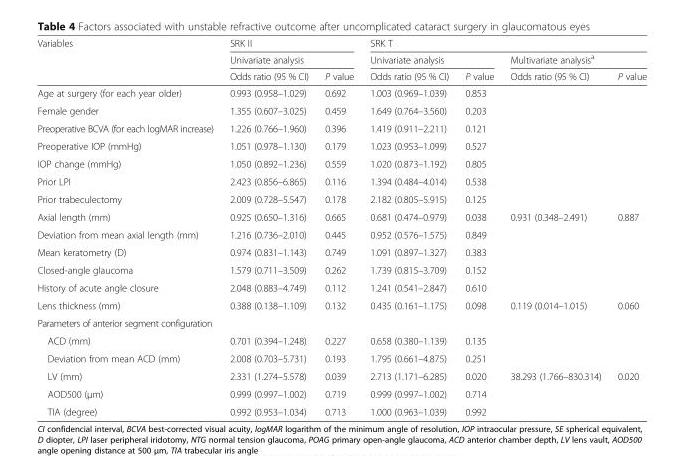table: (36, 37, 646, 416)
table column: (36, 37, 221, 416), (501, 37, 608, 416), (221, 37, 316, 416), (361, 37, 456, 416), (316, 37, 361, 416), (456, 37, 501, 416), (608, 37, 646, 416)
table column header: (36, 37, 646, 84)
table projected row header: (36, 313, 646, 331)
table row: (36, 101, 646, 119), (36, 136, 646, 154), (36, 154, 646, 172), (36, 172, 646, 190), (36, 207, 646, 225), (36, 225, 646, 243), (36, 260, 646, 278), (36, 278, 646, 296), (36, 313, 646, 331), (36, 331, 646, 349), (36, 349, 646, 367), (36, 384, 646, 402), (36, 50, 646, 67), (36, 67, 646, 84), (36, 84, 646, 101), (36, 119, 646, 136), (36, 190, 646, 207), (36, 243, 646, 260), (36, 296, 646, 313), (36, 367, 646, 384), (36, 402, 646, 416), (36, 37, 646, 50)
table spanning cell: (36, 37, 221, 84), (221, 37, 361, 67), (361, 37, 646, 50), (501, 50, 646, 67), (361, 50, 501, 67)
